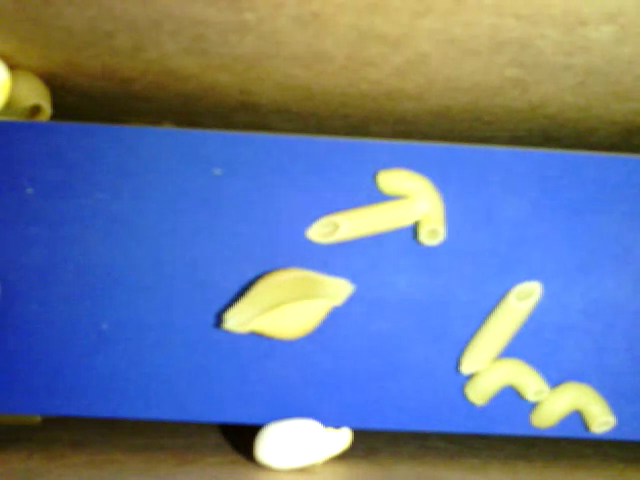elbow: (375, 166, 449, 249), (461, 354, 550, 410), (528, 379, 616, 434)
penne: (456, 277, 544, 375), (303, 190, 432, 247)
shell: (216, 263, 357, 344), (2, 65, 54, 123)
